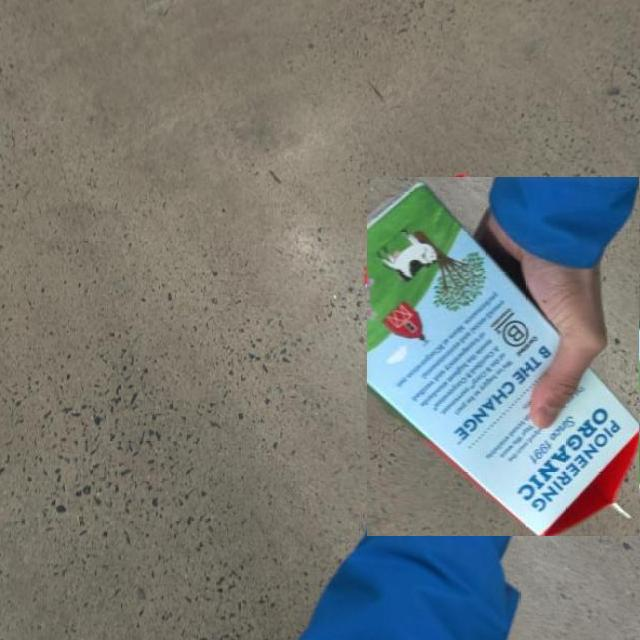Milk: (366, 176, 640, 536)
